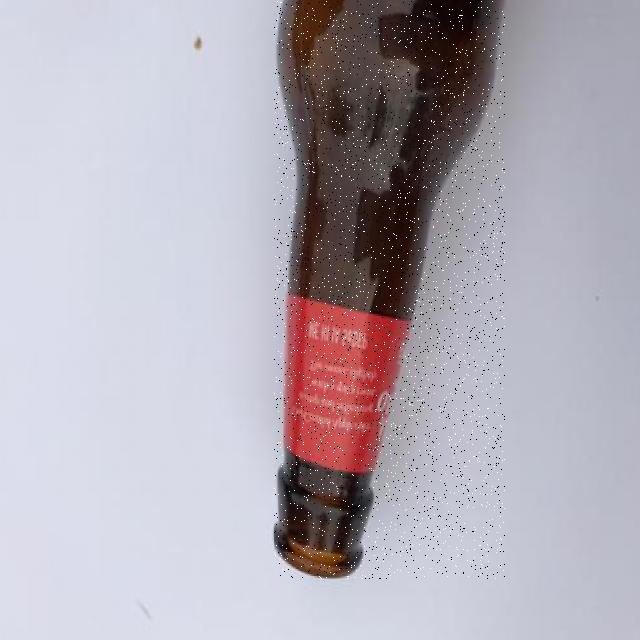glass: (275, 1, 505, 579)
